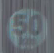Speed limit: (2, 1, 52, 52)
